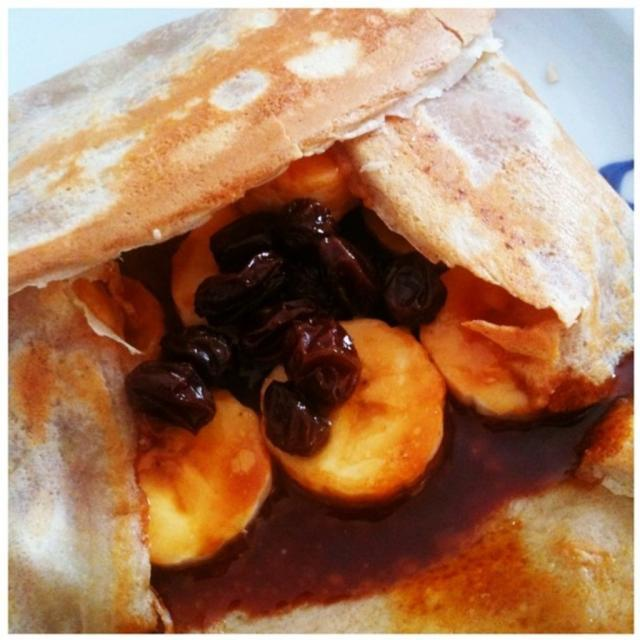Pancake: (6, 9, 502, 295), (163, 388, 633, 635), (342, 58, 639, 389), (6, 284, 166, 634)
